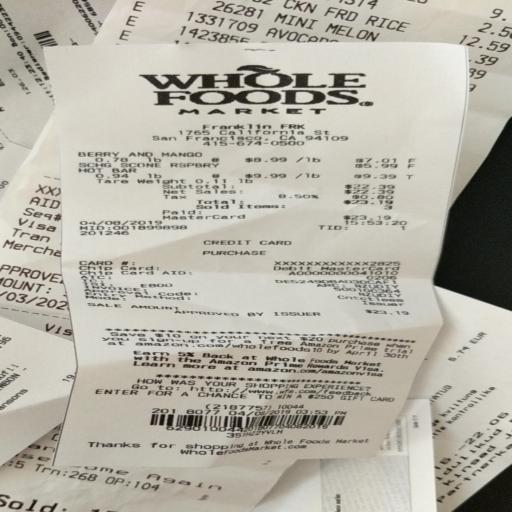paper: (29, 22, 504, 512)
